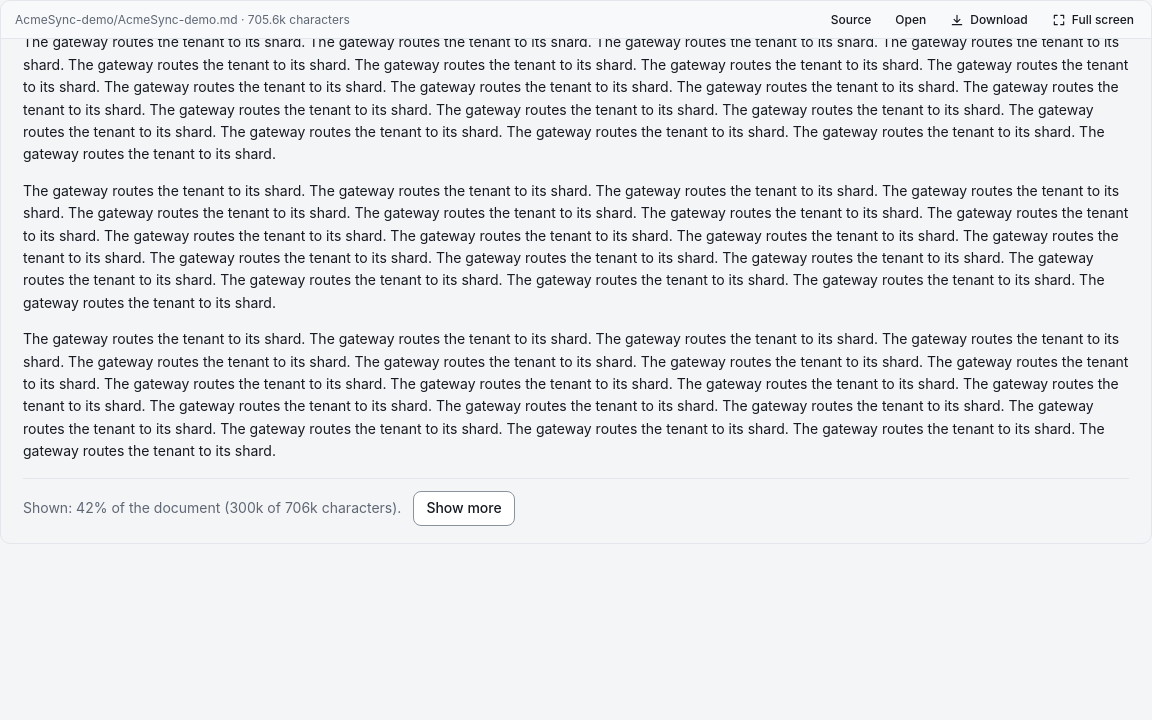
Test: MarkdownView › draws a large document a part at a time, each Show more adding a part, and the editor the whole defect
The width and height of the screenshot is (1152, 720).
(page scrolled)
Expected: the text "Shown: 42% of the document (300k of 706k characters)." is shown, [23,498,401,519]
Expected: the heading "Last section" is not shown
Step 1. Click the button "Show more" → {"x": 464, "y": 509}, box [413,492,515,526]
(page scrolled)
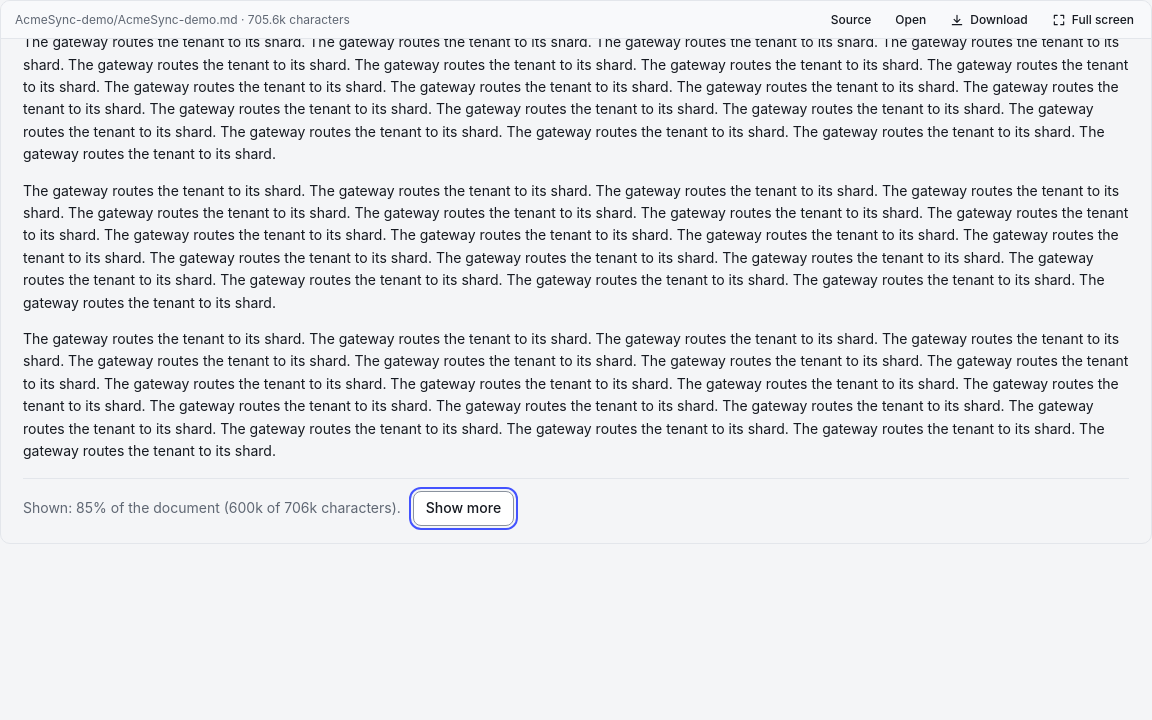
Step 2. Click the button "Show more" → {"x": 463, "y": 508}, box [413,491,514,526]
(page scrolled)
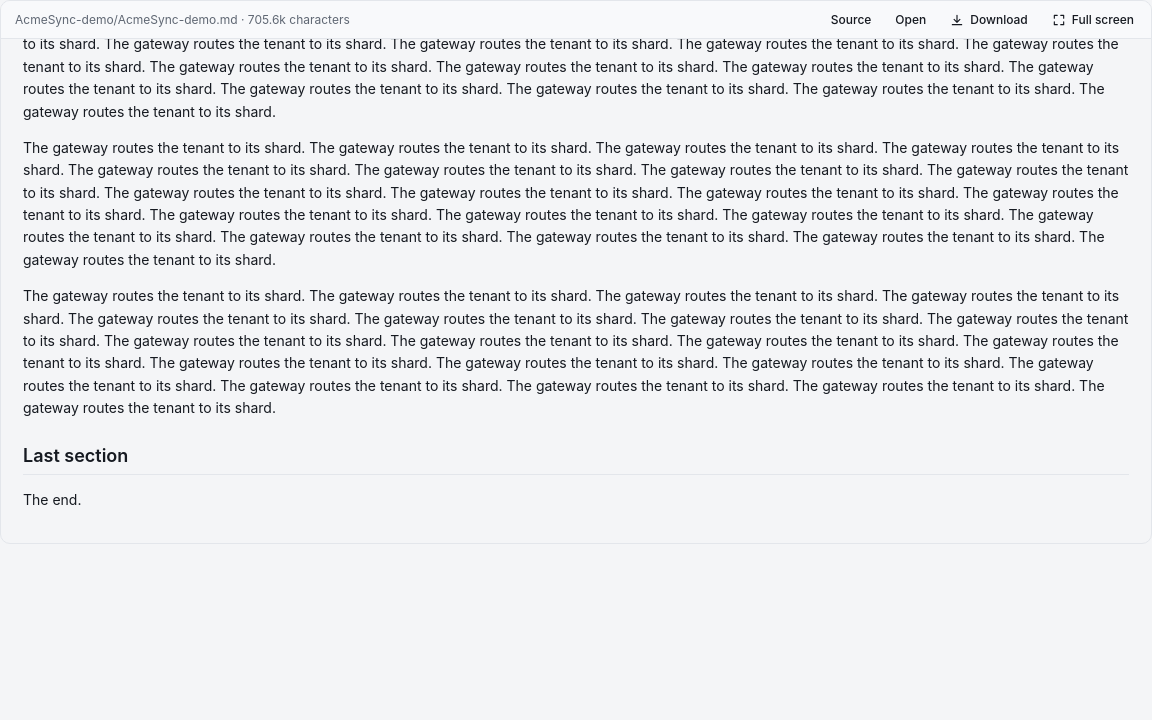
Now the heading "Last section" is shown, box [23,442,1129,475]
Now the button "Show more" is gone
